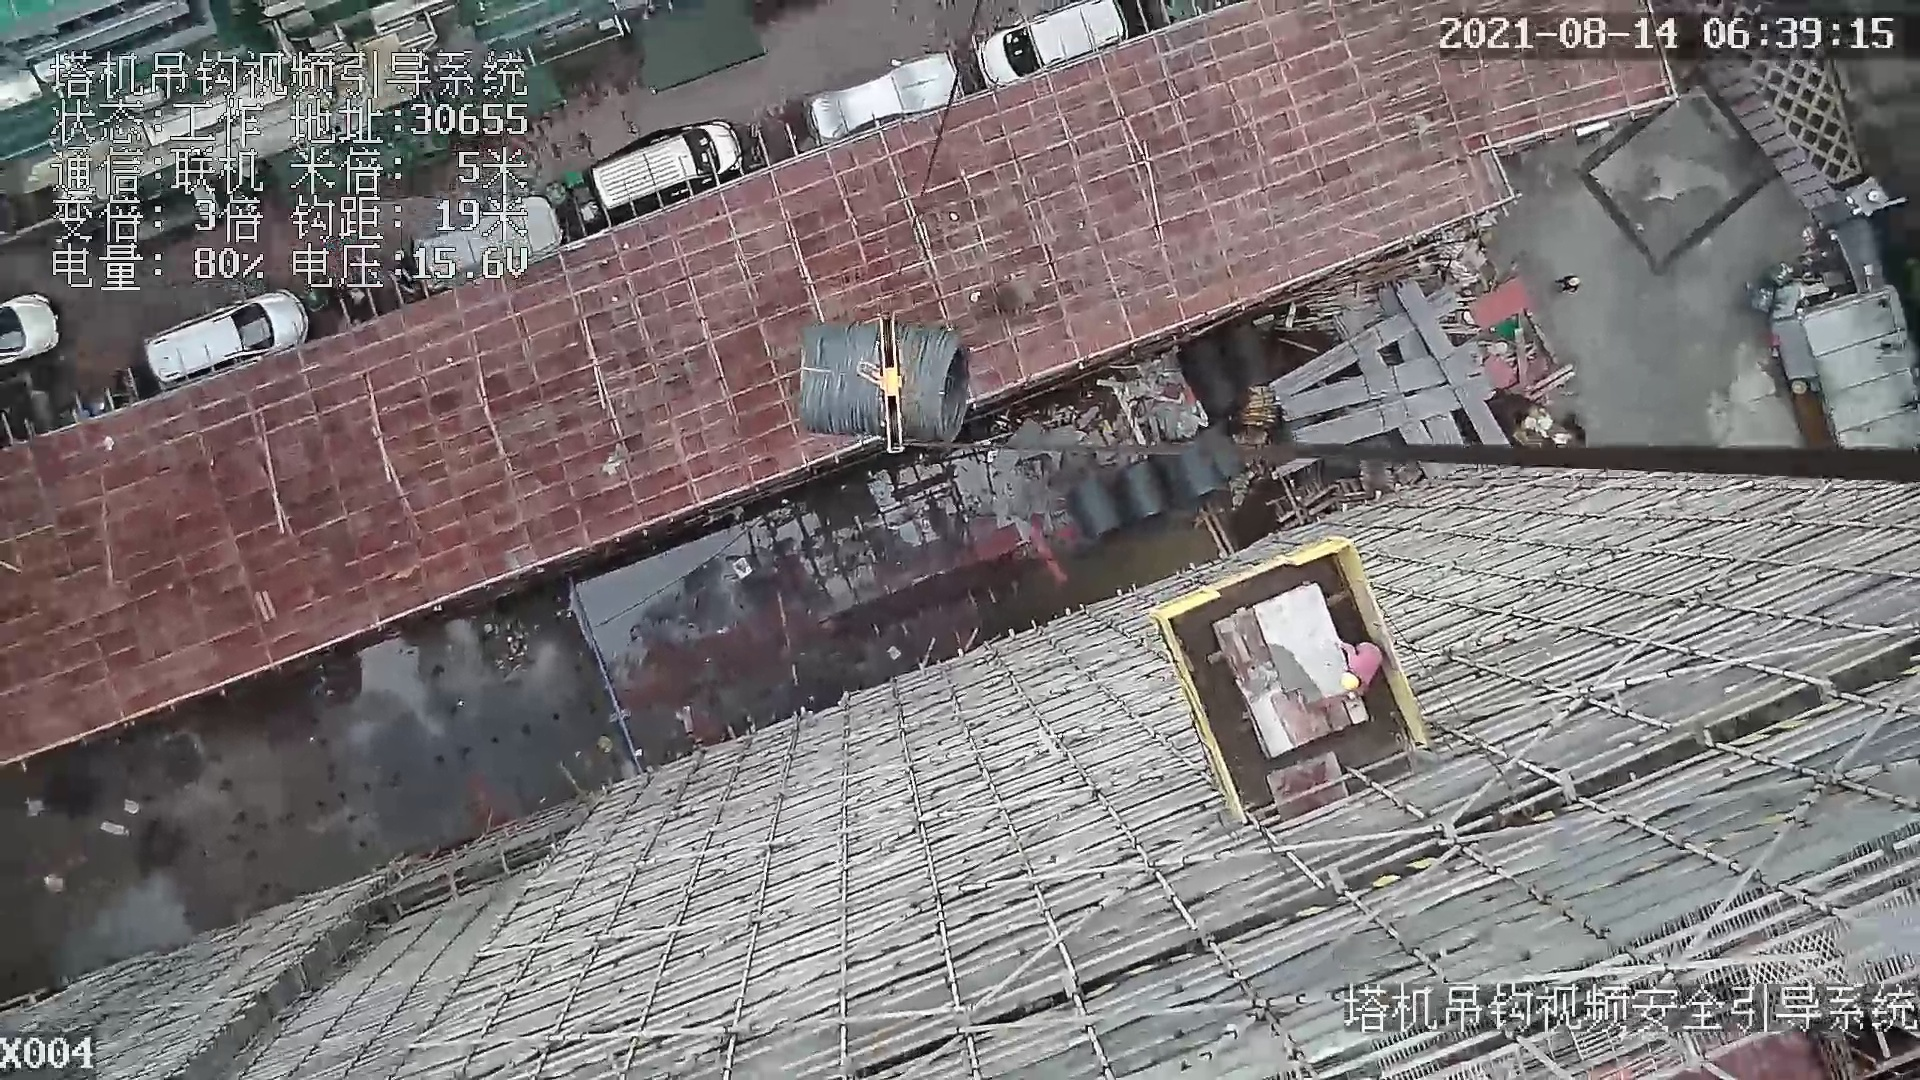helmet: (1337, 652, 1362, 703)
hook: (858, 315, 905, 458)
person: (1328, 633, 1386, 705)
